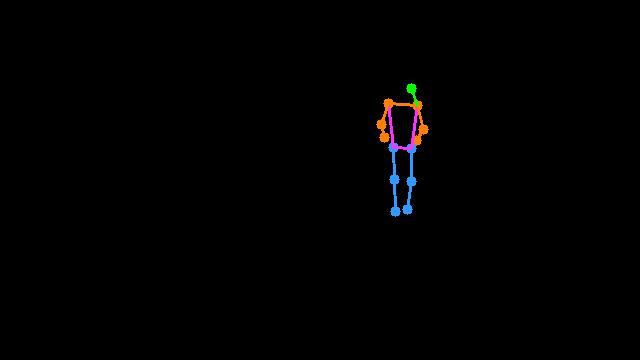normal: (367, 63, 437, 224)
